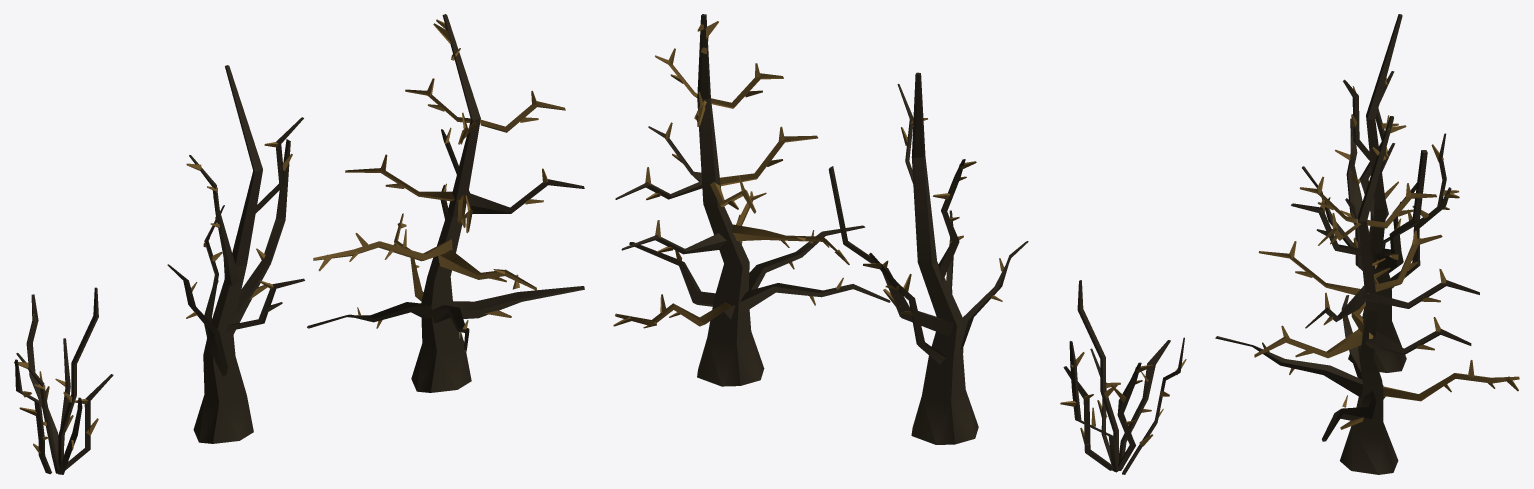
The model's file is Dry_ trees_0I_edit_.fbx.
The picture shows the model from 3 angles, left to right: view 1: azimuth 30°, elevation 25°; view 2: azimuth 150°, elevation 25°; view 3: azimuth 270°, elevation 25°; orthographic projection. The views are drawn at different scales.
Visible parts, largest first — view 1: Dry_spruce_0I, Dry_ tree_0I, Dry_bush_0I; view 2: Dry_spruce_0I, Dry_ tree_0I, Dry_bush_0I; view 3: Dry_spruce_0I, Dry_ tree_0I, Dry_bush_0I.
Part boxes in pixels (x1=…): Dry_spruce_0I: x1=307, y1=14, x2=584, y2=392; Dry_ tree_0I: x1=167, y1=65, x2=304, y2=443; Dry_bush_0I: x1=14, y1=287, x2=113, y2=474; Dry_spruce_0I: x1=613, y1=14, x2=890, y2=386; Dry_ tree_0I: x1=828, y1=72, x2=1028, y2=444; Dry_bush_0I: x1=1060, y1=280, x2=1186, y2=474; Dry_spruce_0I: x1=1215, y1=115, x2=1519, y2=474; Dry_ tree_0I: x1=1291, y1=14, x2=1459, y2=372; Dry_bush_0I: x1=1302, y1=118, x2=1459, y2=272.
Size of the model in its own units: 8.19 by 5.05 by 3.9.
